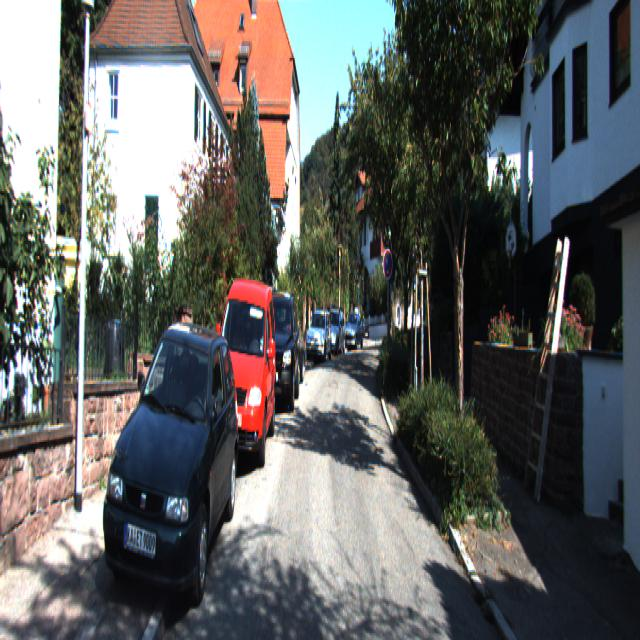Car: (96, 319, 242, 638), (208, 270, 278, 480), (257, 290, 301, 422), (306, 309, 332, 365)
